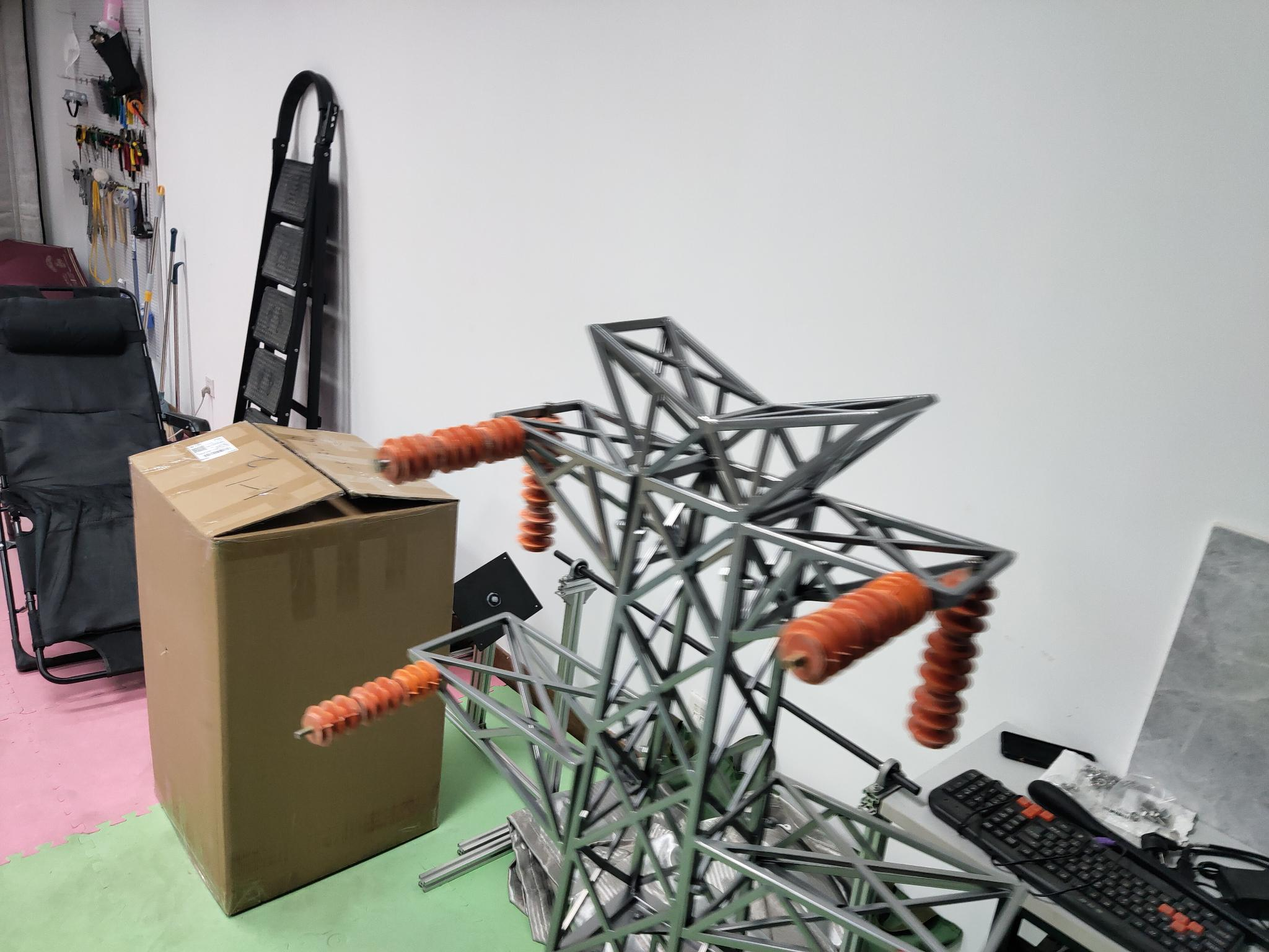tower: (402, 312, 1020, 952)
